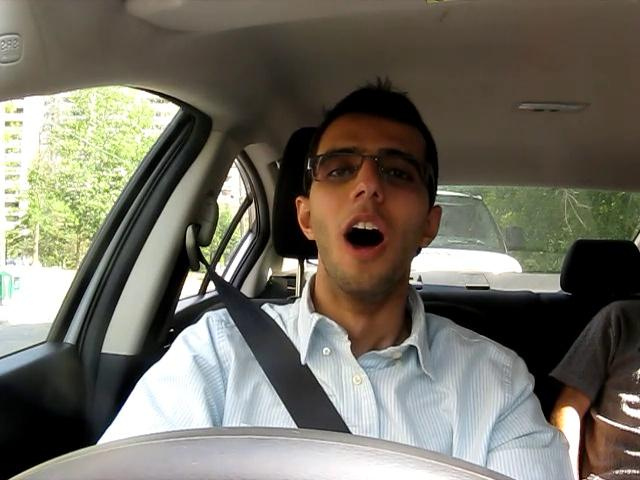close_eyeL: (315, 158, 368, 188)
close_eyeR: (373, 160, 427, 191)
yawn: (326, 215, 400, 259)
